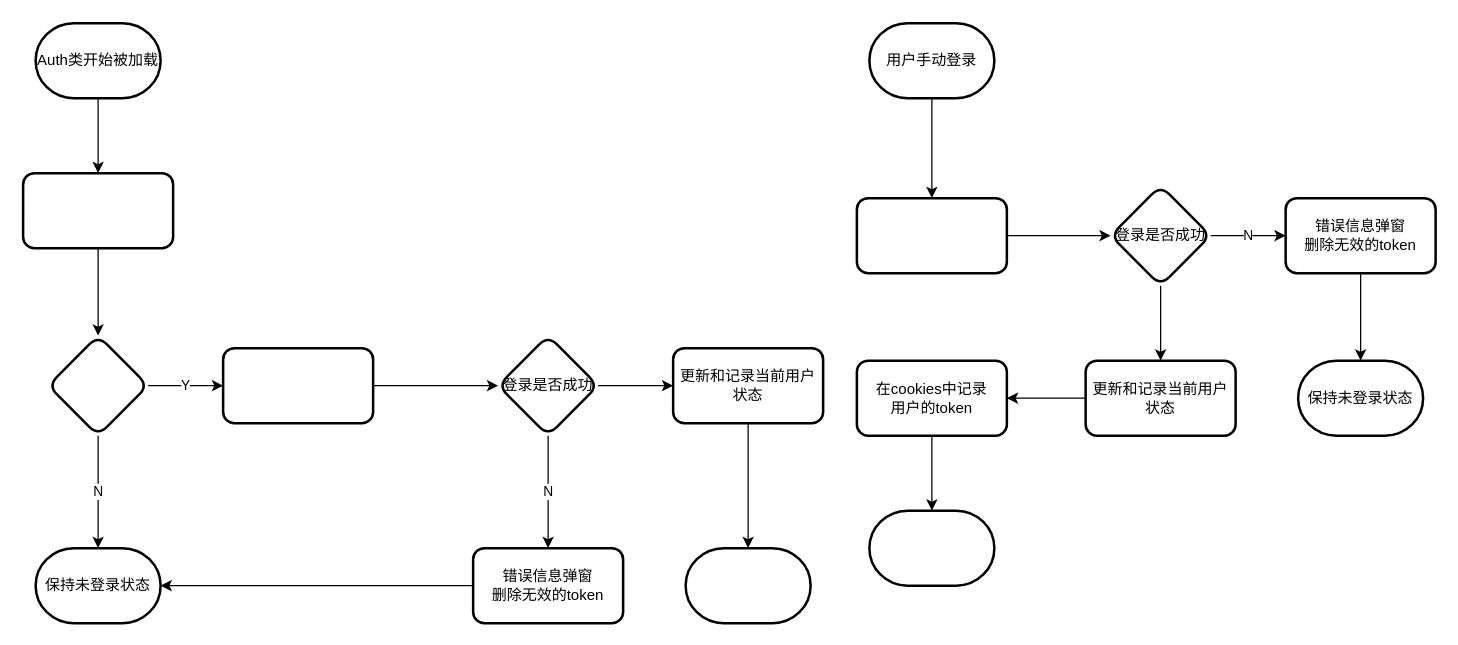
Some shapes in this 1458 by 645 pixel diagram are drawn without their labels. Each missing label, with the box of its shape:
token是否 存在: (46, 334, 149, 436)
尝试使用API 进行使用token的 自动登录: (221, 346, 374, 424)
尝试使用API 进行使用账号密码的 登录: (855, 196, 1008, 274)
尝试读取cookies 并获取存储的token: (21, 171, 174, 249)
成功手动登录: (868, 509, 995, 586)
成功自动登录: (684, 546, 811, 624)
